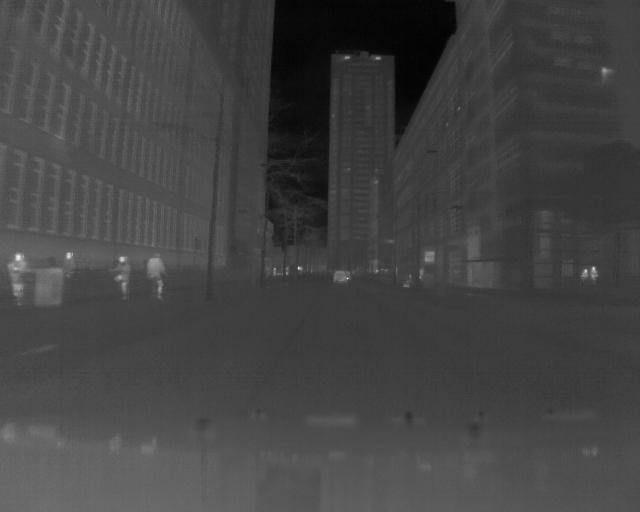car: (331, 267, 348, 283)
person: (109, 255, 137, 298), (8, 248, 28, 303), (145, 249, 166, 300), (61, 248, 75, 293), (592, 263, 601, 292), (580, 264, 588, 290)
